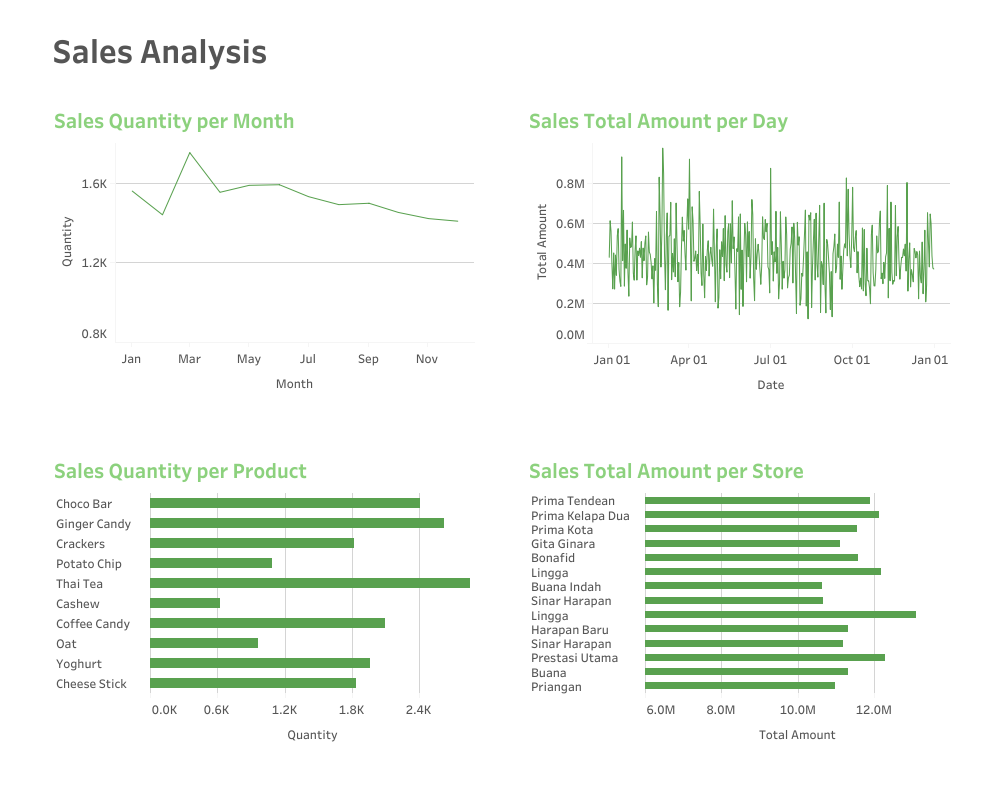

What the dashboard file says about the page in this screenshot:
{"tool":"tableau","page":{"name":"Dashboard 1","canvas":[1000,800],"ordinal":0},"visuals":[{"type":"text","box":[50,25,435,50]},{"type":"worksheet","title":"Sheet 1","mark":"Line","rows":["Qty"],"cols":["Date"],"box":[50,100,425,300]},{"type":"worksheet","title":"Sheet 2","mark":"Line","rows":["TotalAmount"],"cols":["Date"],"box":[525,100,425,300]},{"type":"worksheet","title":"Sheet 3","mark":"Bar","rows":["ProductID","Product Name"],"cols":["Qty"],"box":[50,450,425,300]},{"type":"worksheet","title":"Sheet 4","mark":"Automatic","rows":["StoreID","StoreName"],"cols":["TotalAmount"],"box":[525,450,425,300]}]}

Visuals, with their boxes in screenshot pixels (x1, y1, x2, y2), scaled from the page's 1000x800 canvas onto the 999x799 screenshot:
text: 50,25,485,75
"Sheet 1" worksheet (Line marks): 50,100,475,400
"Sheet 2" worksheet (Line marks): 524,100,949,400
"Sheet 3" worksheet (Bar marks): 50,449,475,749
"Sheet 4" worksheet: 524,449,949,749
